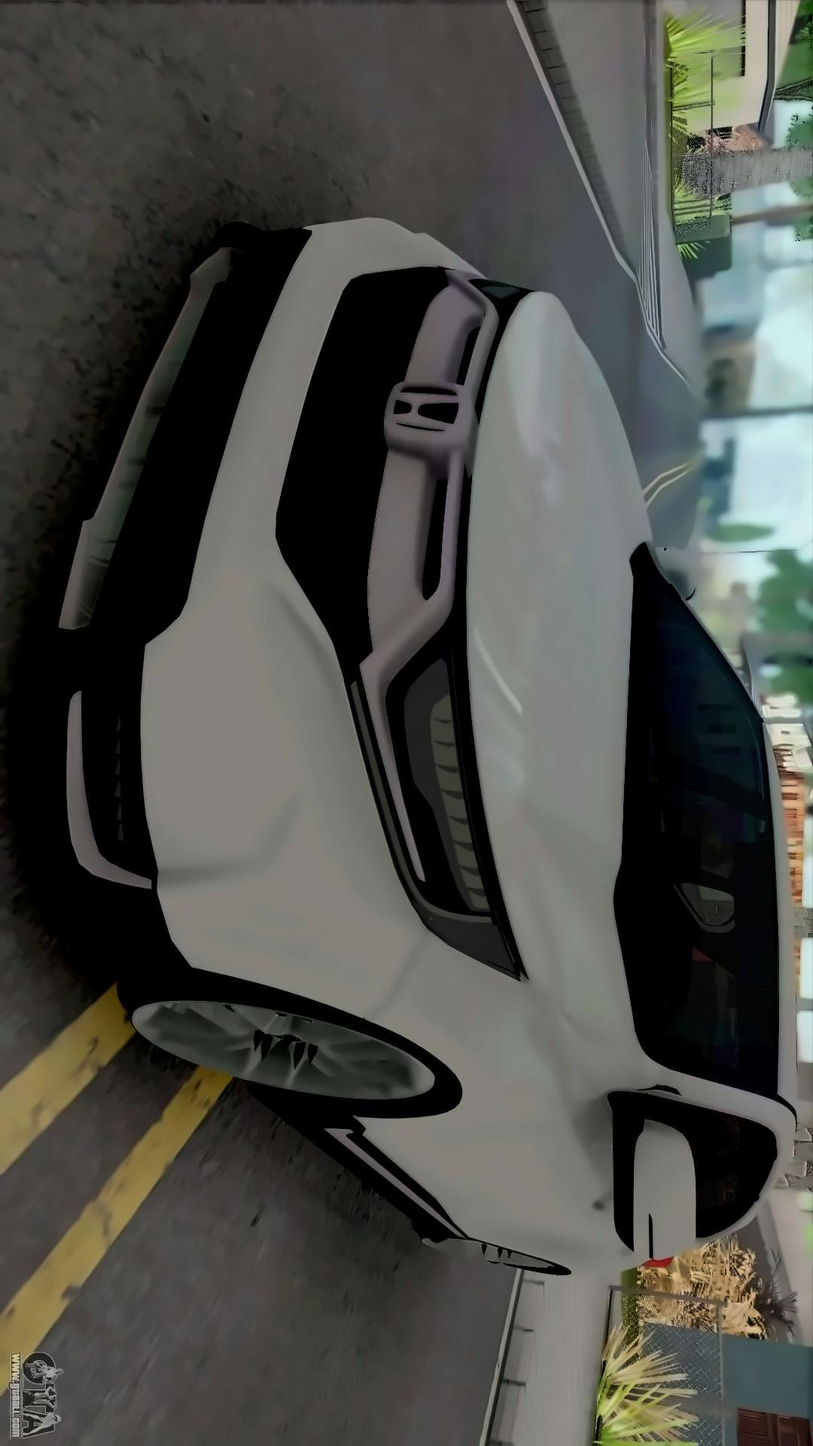Car hood: (459, 279, 665, 1077)
Fender - -F-L-: (246, 958, 752, 1157)
Front bumper: (27, 199, 480, 1017)
Headlight - -L-: (364, 605, 527, 992)
Passenger-s door - -F-L-: (271, 1055, 813, 1262)
Side bumper - -L-: (316, 1095, 484, 1296)
Side mirror - -L-: (618, 1095, 707, 1276)
